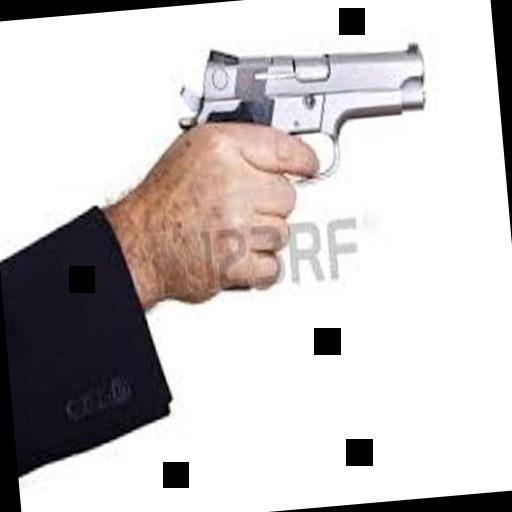Handgun: (166, 28, 434, 198)
